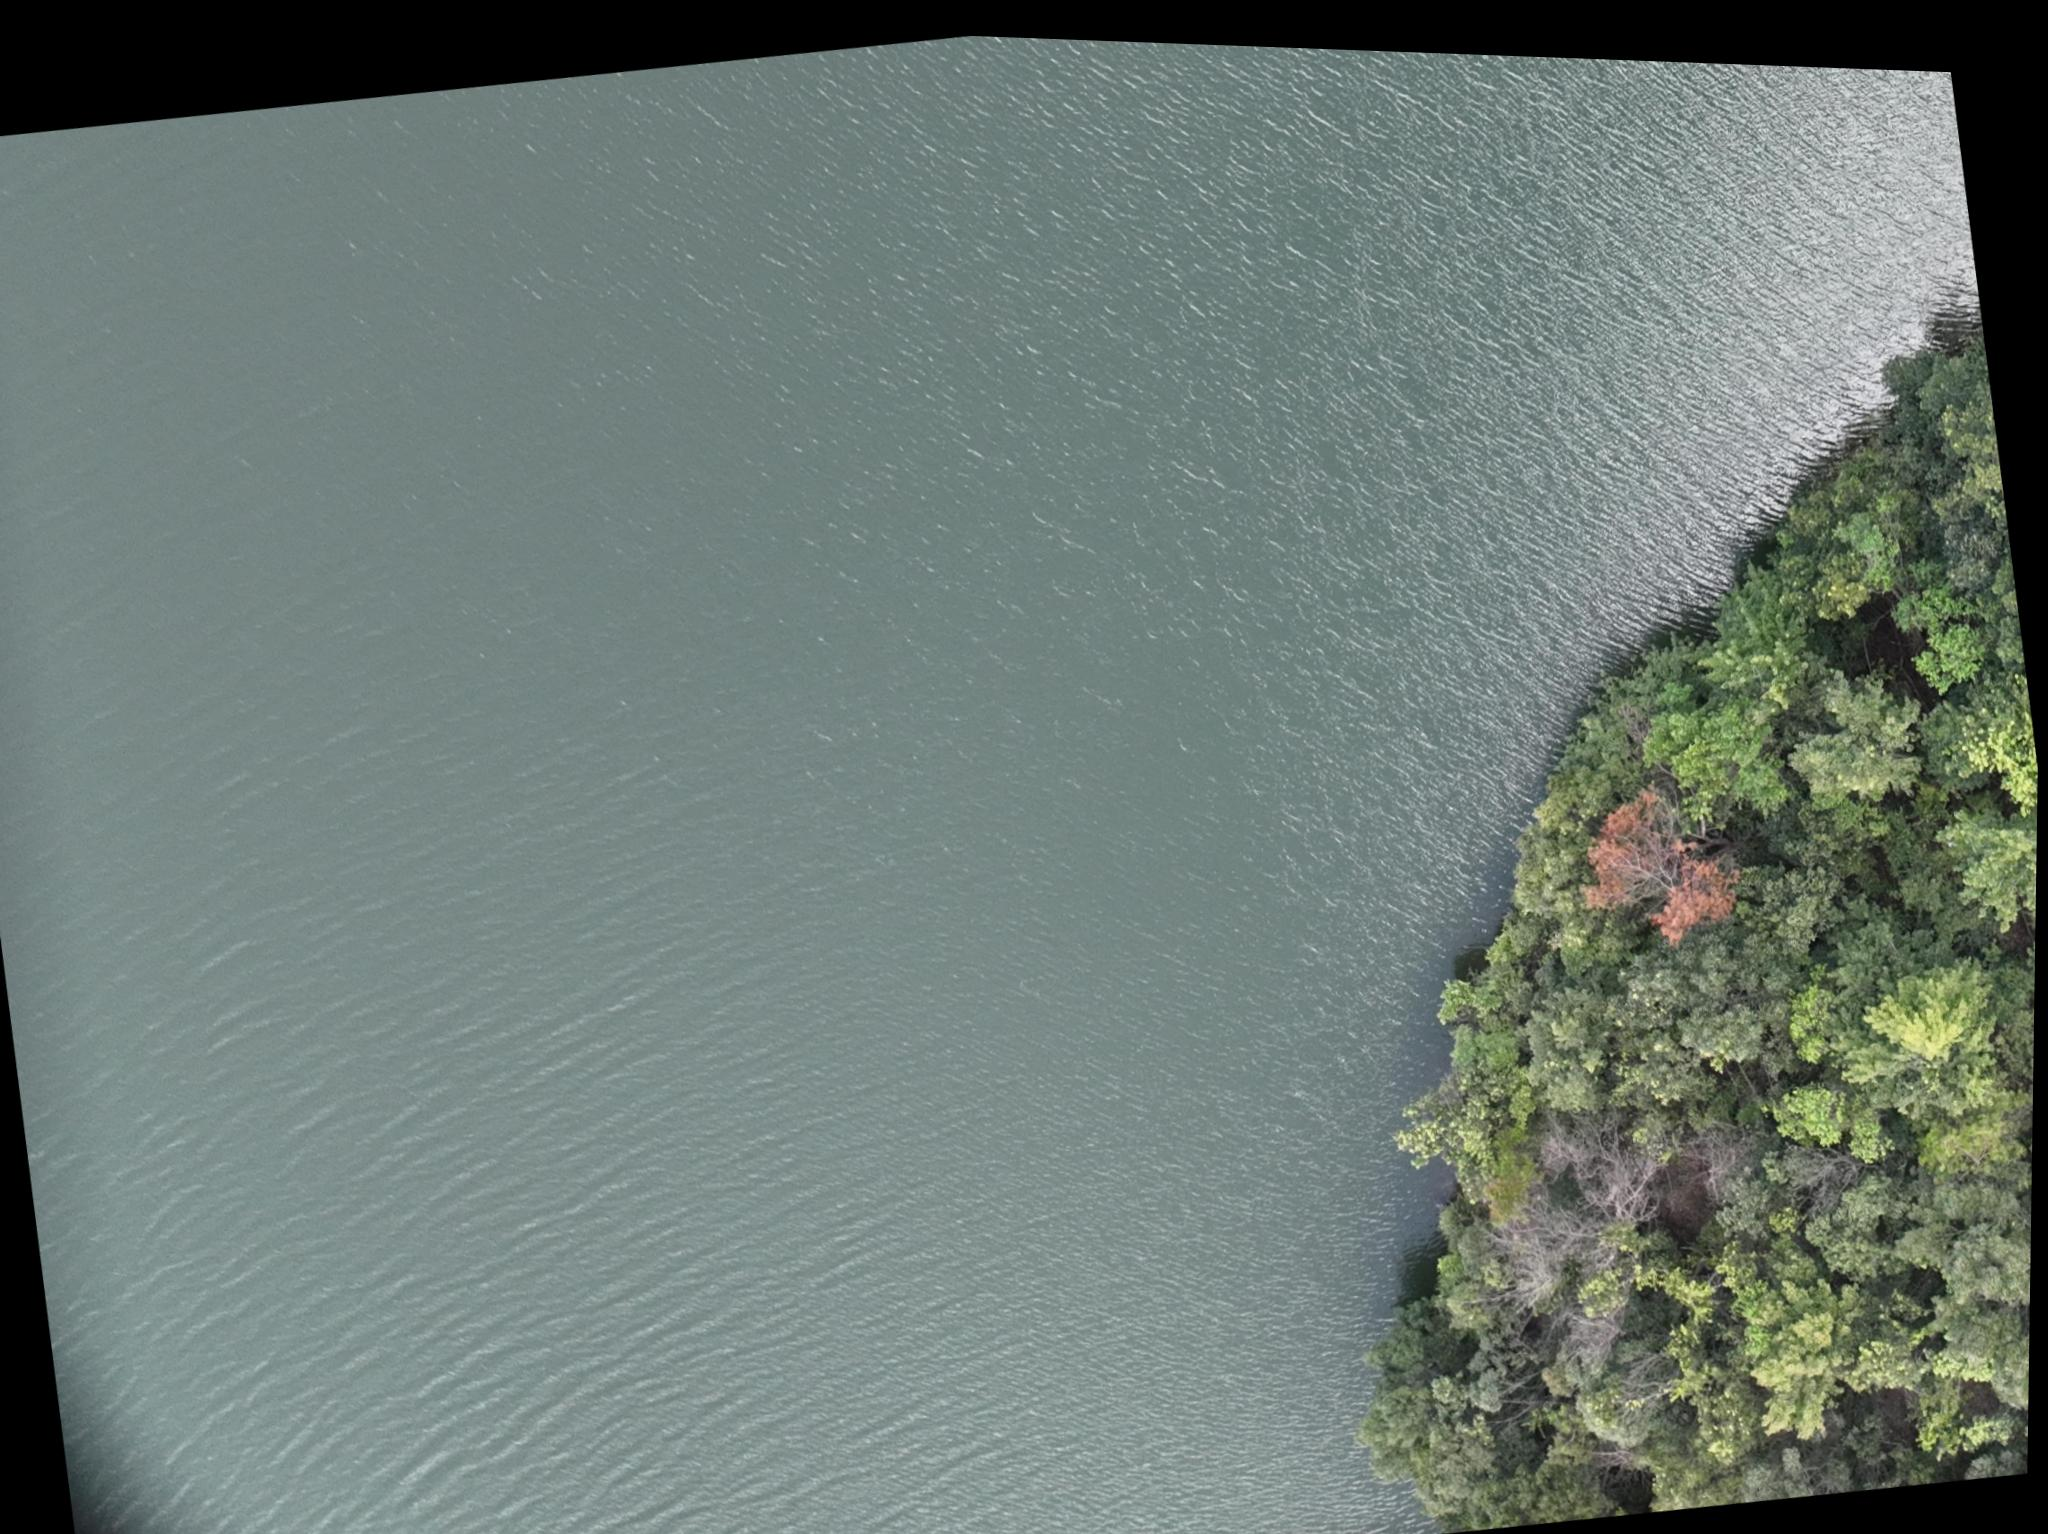dead: (1497, 1176, 1645, 1300), (1540, 1086, 1669, 1184), (1692, 1109, 1772, 1196)
heavy: (1568, 751, 1758, 951)
